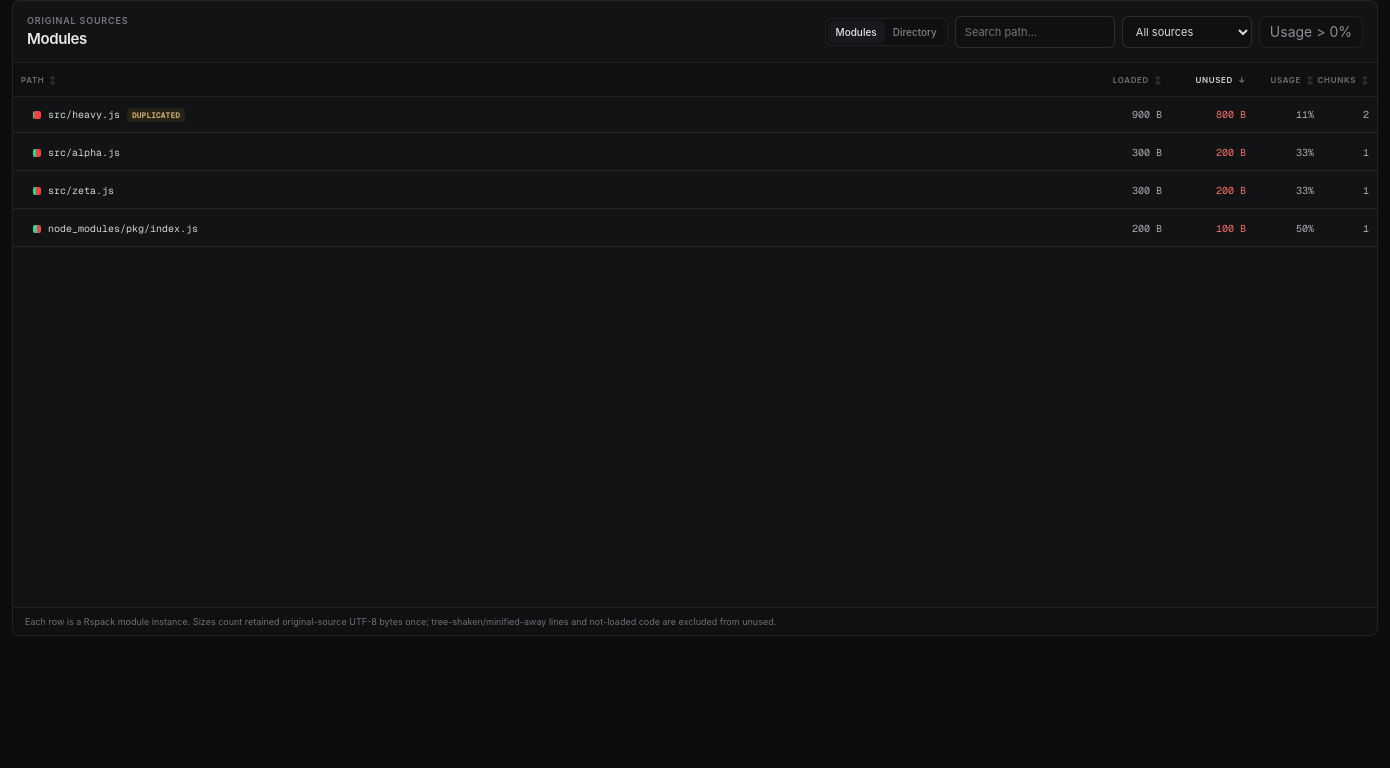
it: SourceExplorer › shares filters and supports directory expansion
This screenshot has width=1390, height=768.
In the field named "Search sources": (1035, 32) left=955, top=16, right=1115, bottom=48, type "alpha"
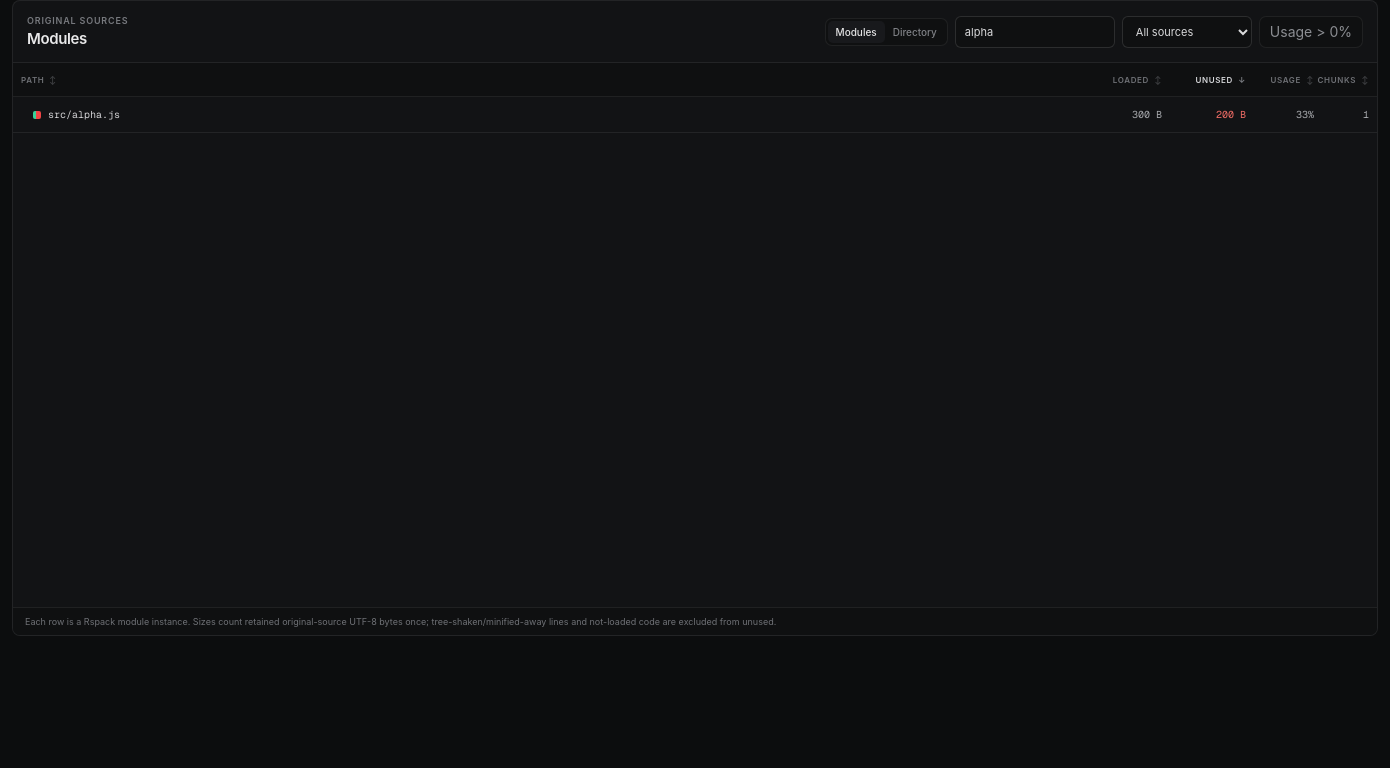
Check: the button with aria-label "Open module src/alpha.js" is shown, box left=13, top=97, right=1377, bottom=133
Click the button "Directory": (915, 32) left=885, top=20, right=945, bottom=42
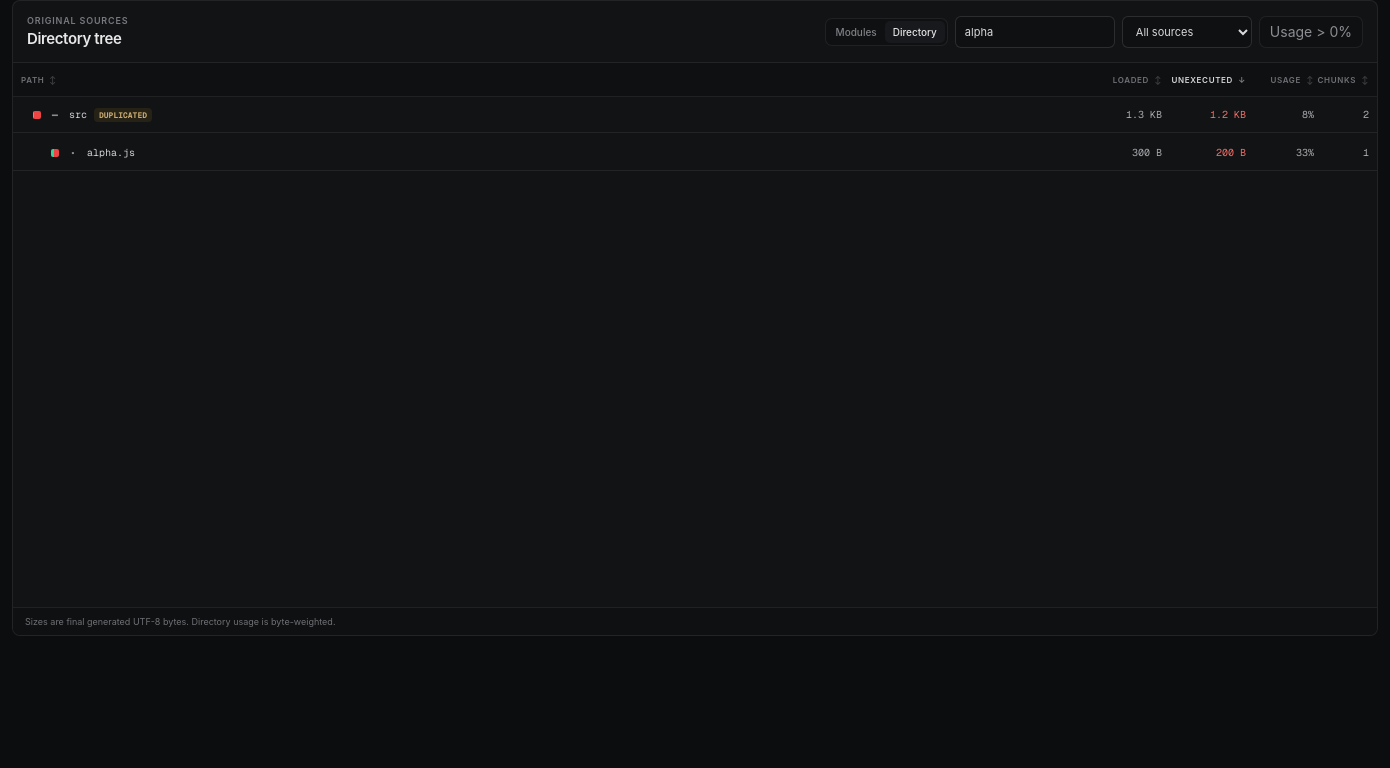
Check: the heading "Directory tree" is shown, box left=27, top=29, right=128, bottom=48
Check: the button with aria-label "Collapse directory src" is shown, box left=13, top=97, right=1377, bottom=133
Check: the button with aria-label "Open source src/alpha.js" is shown, box left=13, top=135, right=1377, bottom=171
Clear the field named "Search sources": (1035, 32) left=955, top=16, right=1115, bottom=48
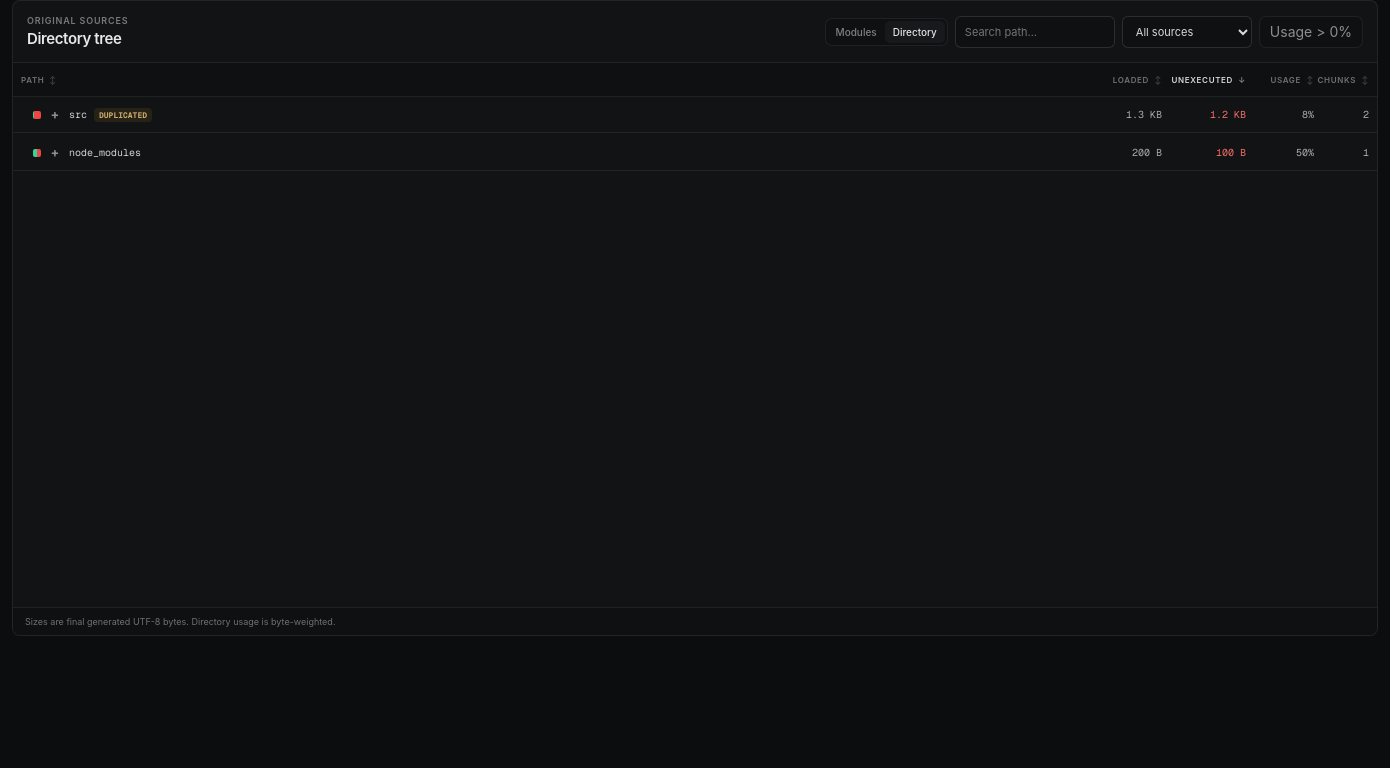
Check: the button with aria-label "Expand directory src" is shown
Click the button with aria-label "Expand directory src": (123, 114) left=13, top=97, right=1377, bottom=133
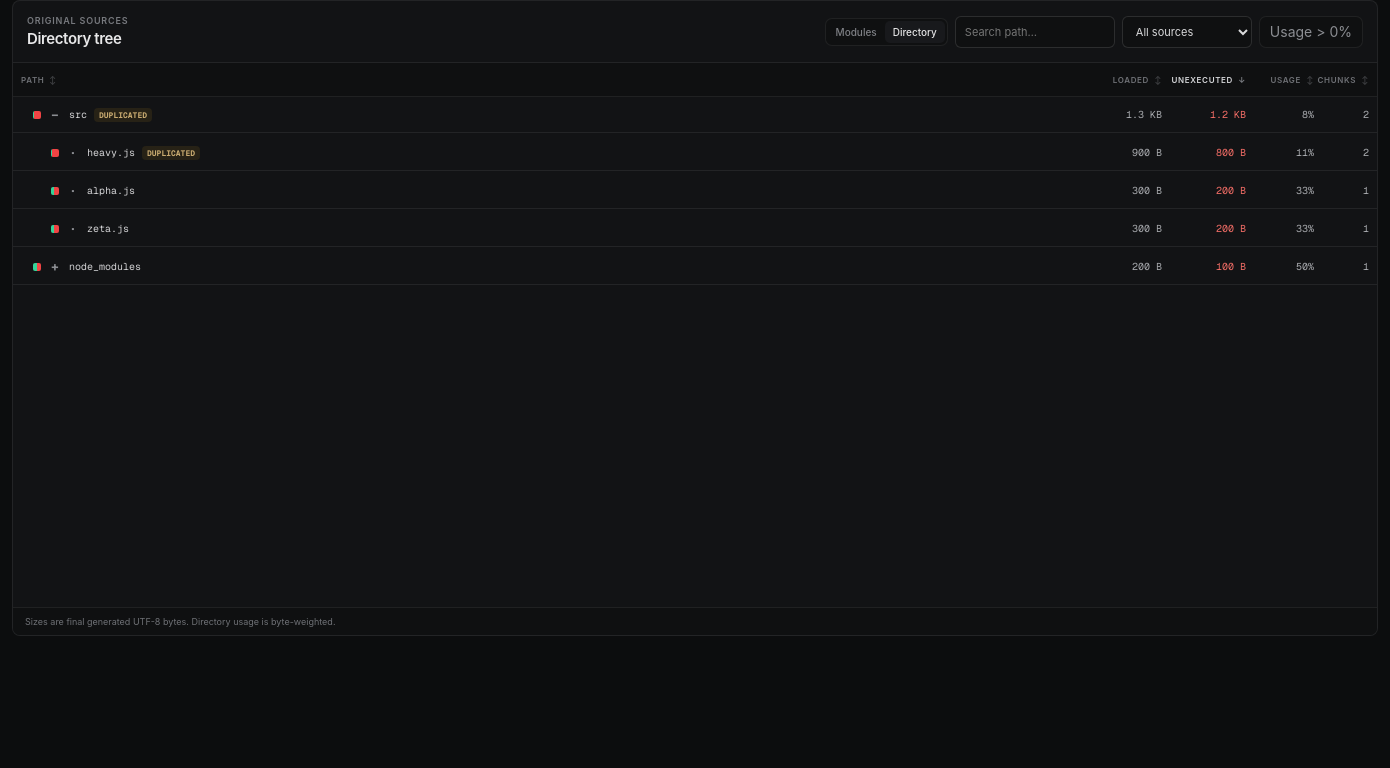
Check: the button with aria-label "Open source src/heavy.js" is shown, box left=13, top=135, right=1377, bottom=171
Select "node_modules" in the dropdown named "Source category": (1187, 32) left=1122, top=16, right=1252, bottom=48
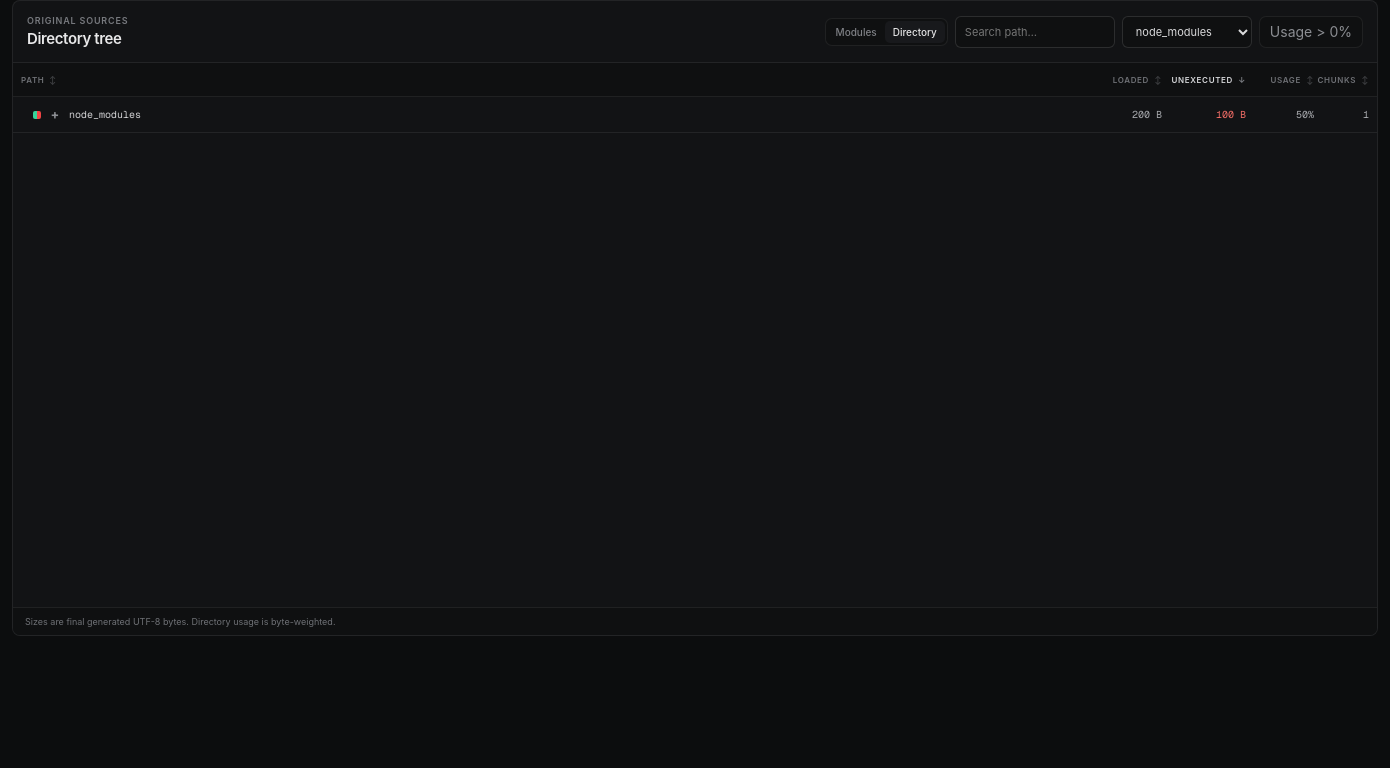
Check: the button with aria-label "Expand directory node_modules" is shown, box left=13, top=97, right=1377, bottom=133
Check: the text "directory src" is gone
